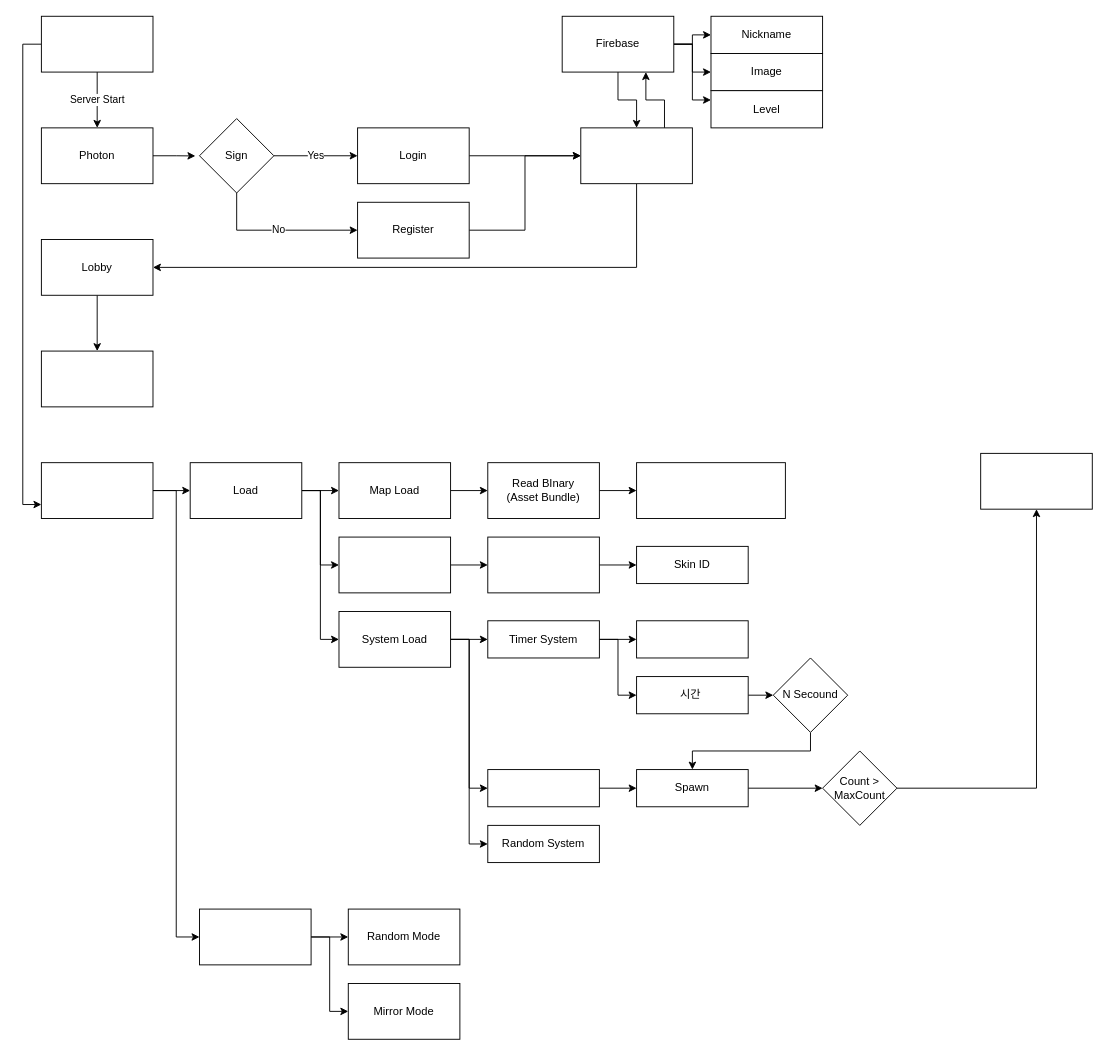
Image size: 1109x1056. Some labels were removed from this diagram. Each missing label, with the centre of its shape:
"Convert Binary to Asset" goes at (x=710, y=490).
"Game End" goes at (x=1036, y=480).
"Game Manager" goes at (x=96, y=43).
"Game Start" goes at (x=96, y=490).
"Google" goes at (x=636, y=155).
"Mode" goes at (x=255, y=936).
"Player Load" goes at (x=394, y=564).
"Room" goes at (x=96, y=378).
"Server Connect (Firebase)" goes at (x=543, y=564).
"Spawn System" goes at (x=543, y=788).
"지연 보상 (난입)" goes at (x=692, y=639).
